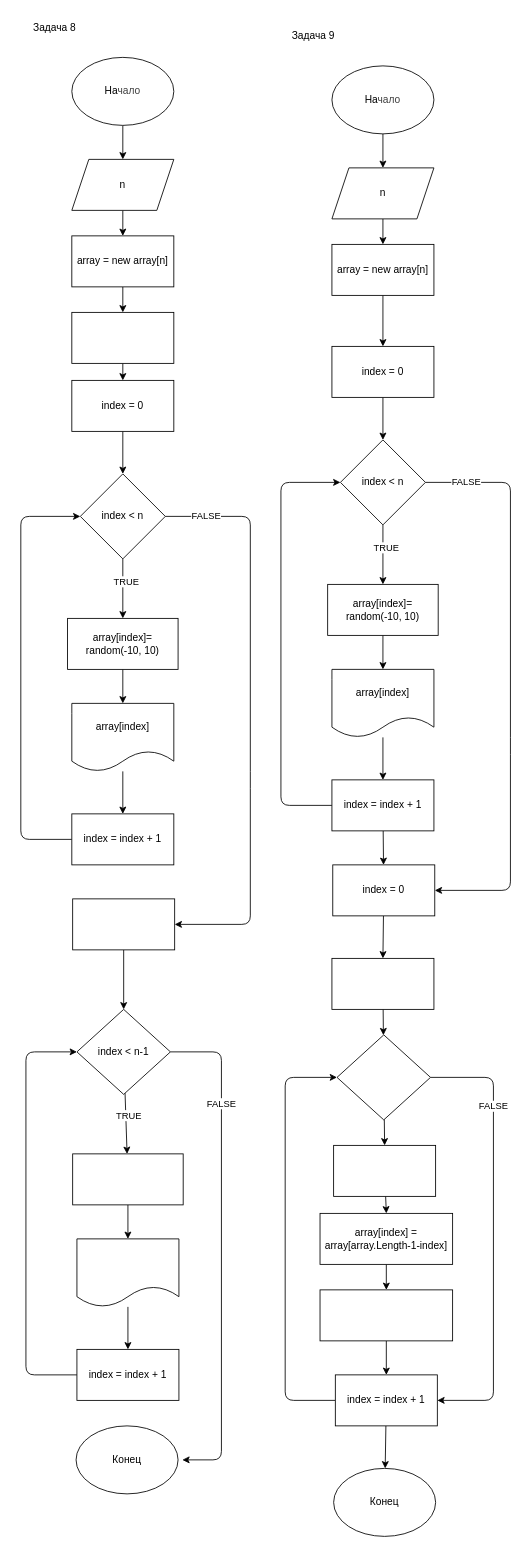
This 532x1551 diagram has some shape labels left out. Each missing label, with the box of its shape:
array[array.Length-1-index] = var: (319, 1289, 453, 1341)
index < n/2: (336, 1034, 431, 1120)
index = 1: (72, 898, 175, 950)
sum_array = new array[n-1]: (71, 312, 174, 363)
sum_array[index-1]= array[index-1]+array[index]: (72, 1153, 183, 1205)
sum_array[index]: (76, 1238, 179, 1307)
var = 0: (331, 958, 434, 1009)
var = array[index]: (333, 1145, 436, 1196)
